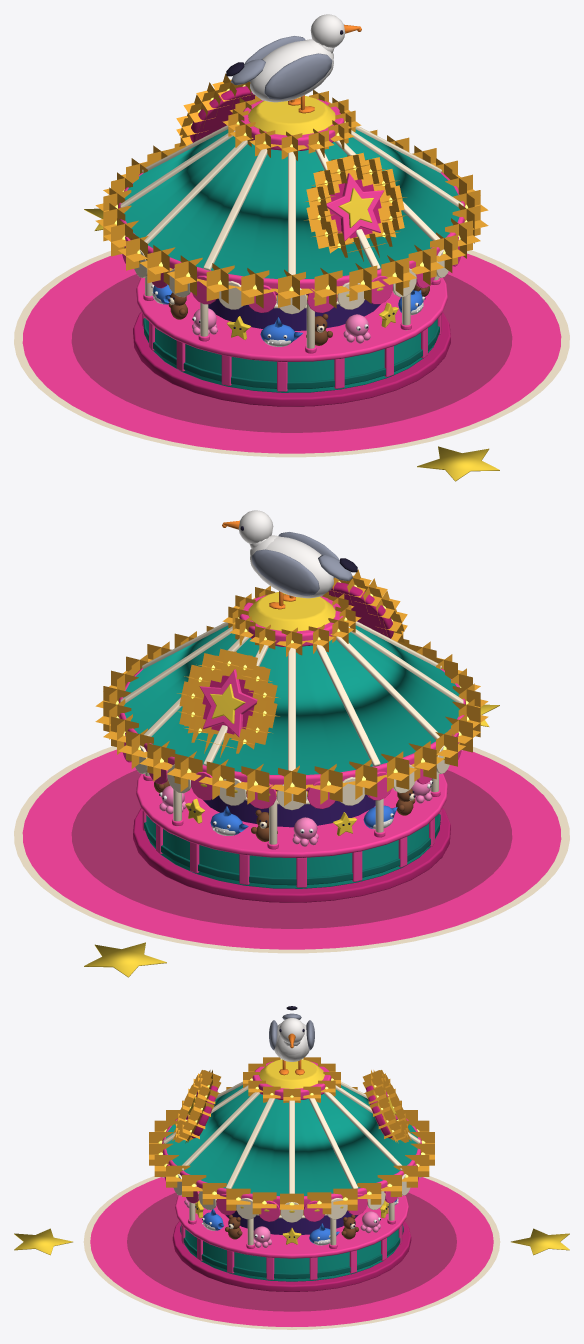
The model's file is kiosk.glb.
3 renders of one model, top to bottom at view 1: azimuth 30°, elevation 25°; view 2: azimuth 150°, elevation 25°; view 3: azimuth 270°, elevation 25°, orthographic. The views are drawn at different scales.
Visible parts, largest first — view 1: Kiosk, Plaza, Seagull; view 2: Kiosk, Plaza, Seagull; view 3: Kiosk, Plaza, Seagull.
Part boxes in pixels (x1,y1,x2,y2): Kiosk: (95,73,488,406); Plaza: (14,208,569,481); Seagull: (226,14,361,113); Kiosk: (95,569,488,902); Plaza: (14,704,569,977); Seagull: (222,510,357,609); Kiosk: (149,1057,434,1291); Plaza: (14,1176,569,1329); Seagull: (269,1006,314,1075).
Size of the model in its own units: 15.9 by 9.98 by 21.22.
